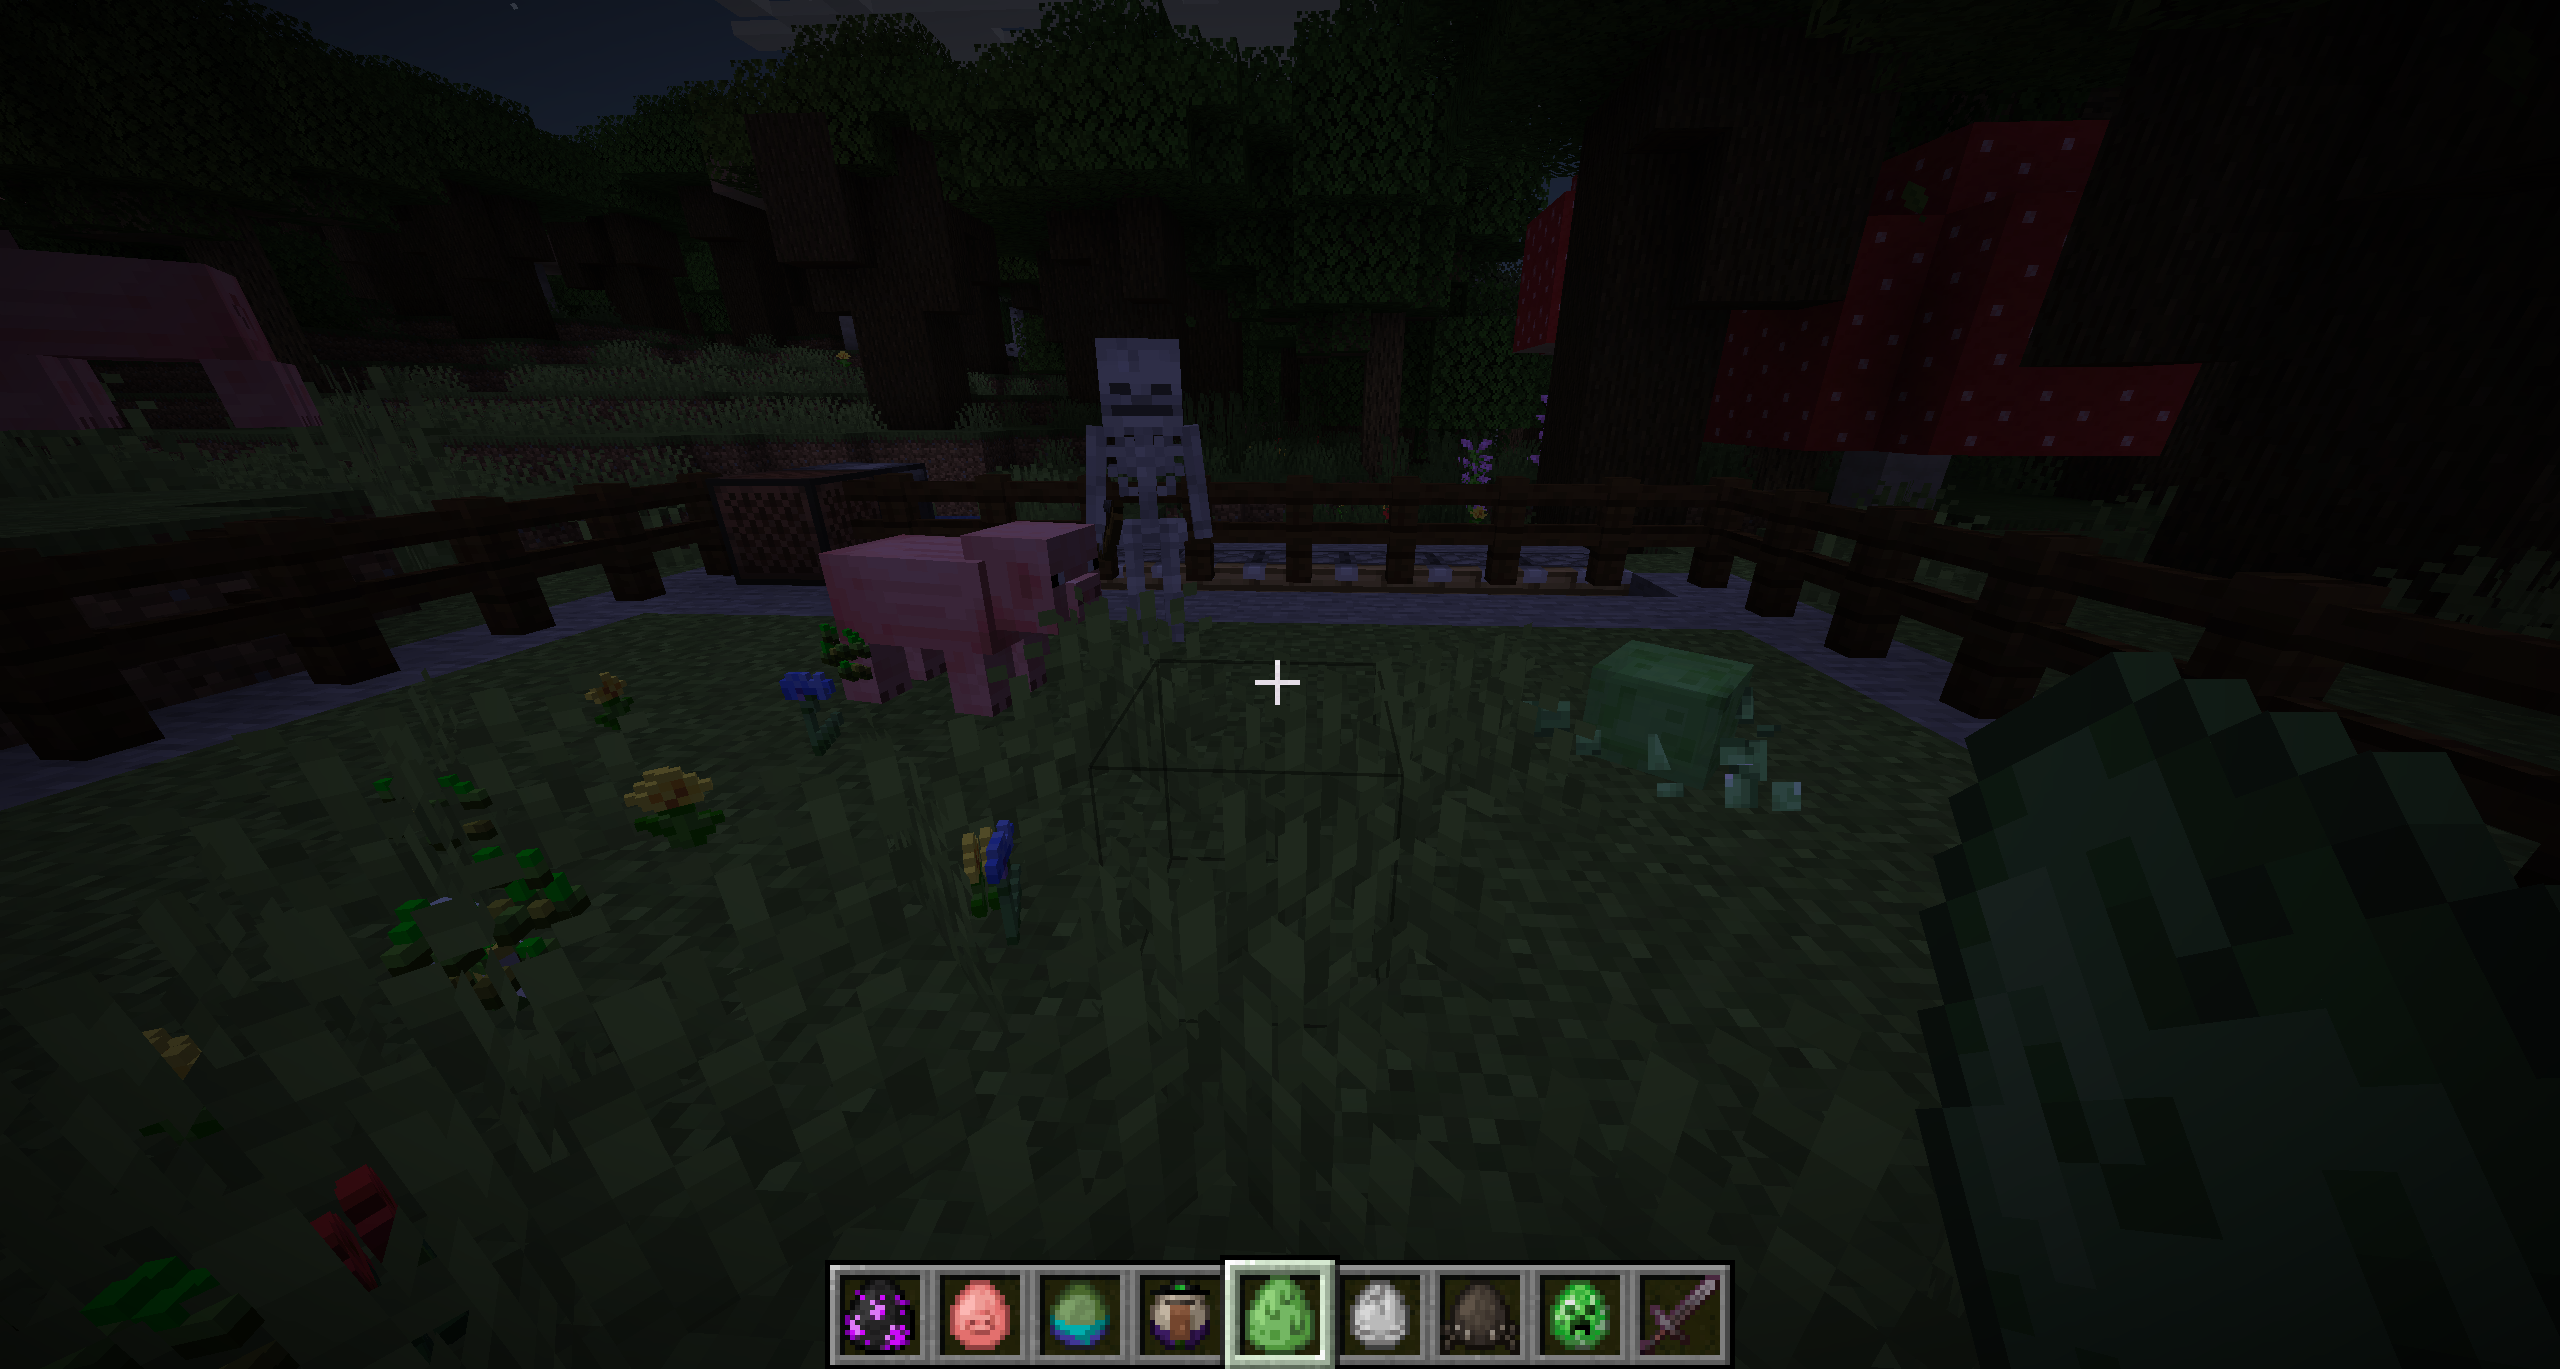cochons: (801, 509, 1099, 721)
slimes: (1576, 624, 1776, 812)
squelettes: (1072, 318, 1212, 662)
